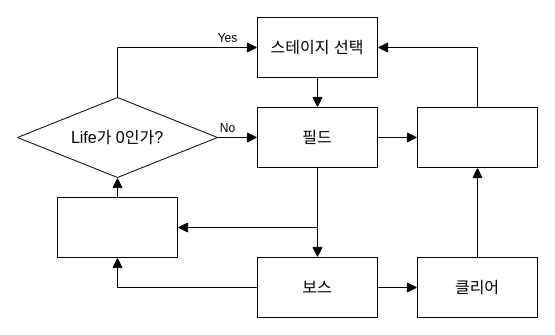
Some shapes in this 555 by 335 pixel diagram are drawn without their labels. Here are the shapes that lost their labels. From the top down, the box of each, then its label:
(416, 106, 538, 168): 결과창 출력
(56, 196, 178, 258): 사망
